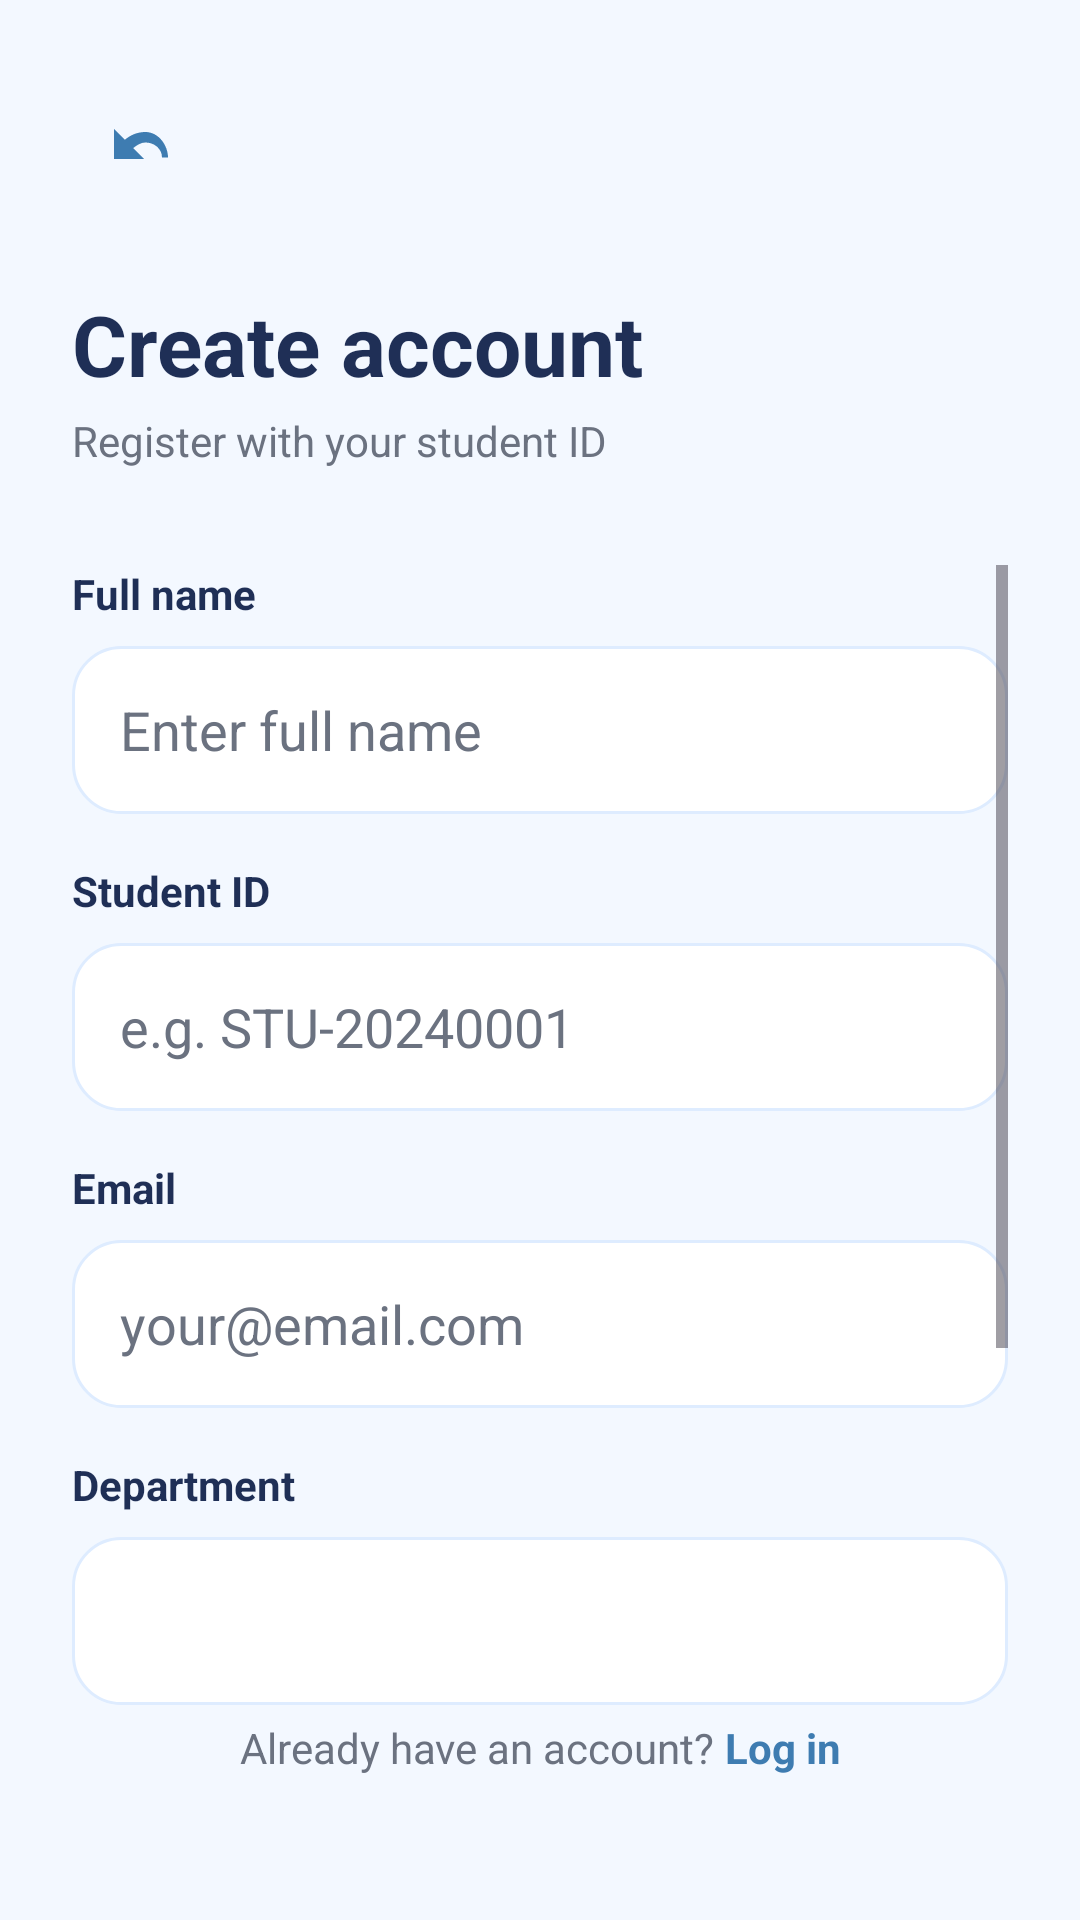

Screen size 1080px x 1920px. Icon name, then its center in pixels as [x,y]:
Back: [141,144]
